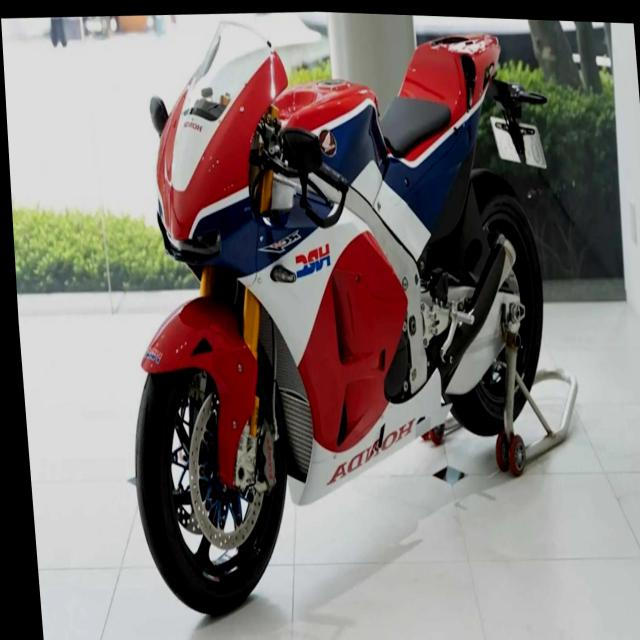HRC RCV 213: (97, 3, 590, 626)
